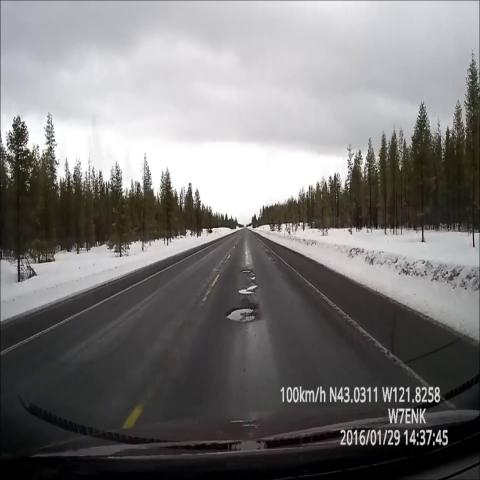pothole: (222, 298, 262, 341), (235, 266, 260, 298)
